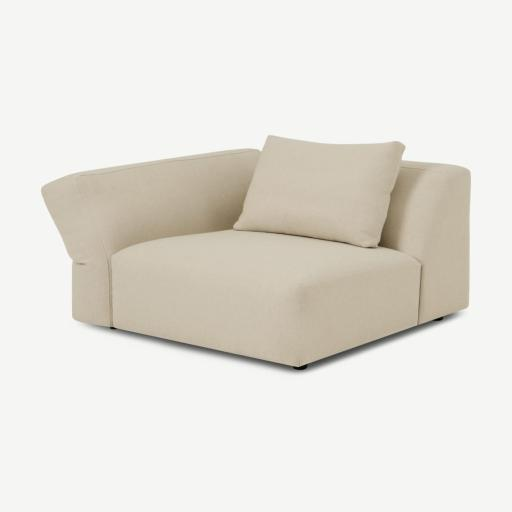one-seater: (42, 136, 470, 370)
right_arm: (42, 149, 259, 328)
seat_cushion: (235, 136, 470, 324), (113, 230, 420, 366)
